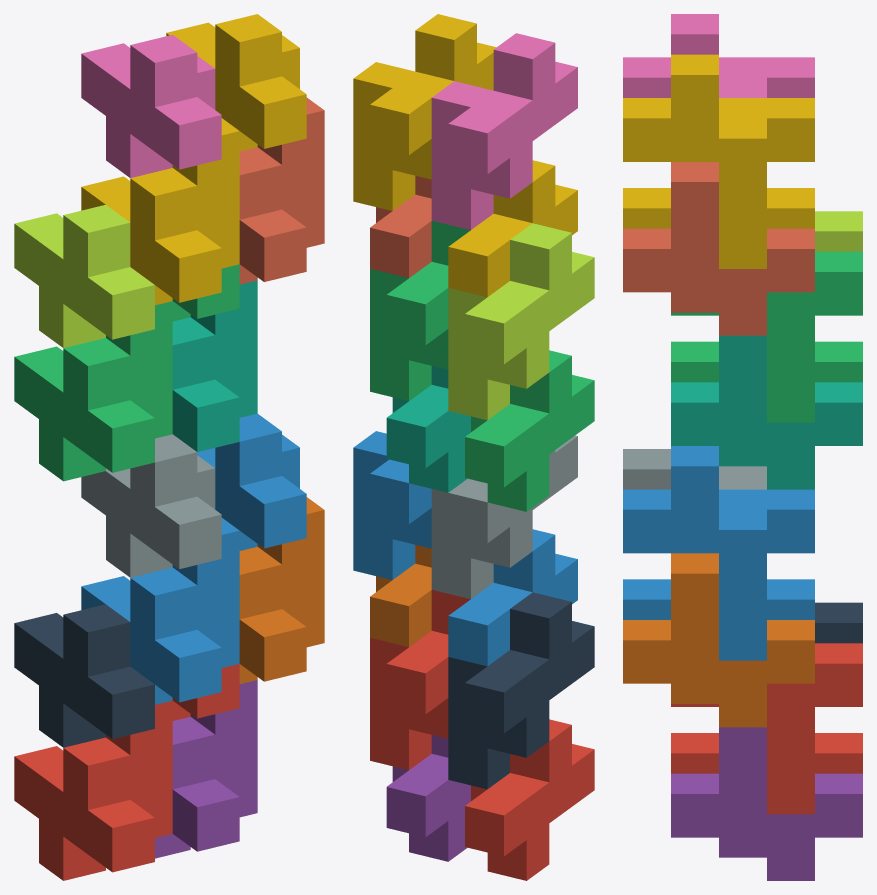
The model's file is tiling.obj.
3 views of the same model, side by side, from view 1: azimuth 30°, elevation 25°; view 2: azimuth 150°, elevation 25°; view 3: azimuth 270°, elevation 25° (orthographic). The views are drawn at different scales.
Visible parts, largest first — view 1: copy_1_domain_3, copy_1_domain_1, copy_1_domain_4, copy_1_domain_2, copy_2_domain_4, copy_2_domain_1, copy_2_domain_3, copy_2_domain_2, copy_1_domain_5, copy_1_domain_6, copy_1_domain_8, copy_1_domain_7 (+4 smaller); view 2: copy_2_domain_4, copy_2_domain_3, copy_2_domain_1, copy_2_domain_8, copy_1_domain_1, copy_1_domain_3, copy_2_domain_7, copy_2_domain_5, copy_2_domain_2, copy_2_domain_6, copy_1_domain_2, copy_1_domain_4 (+4 smaller); view 3: copy_2_domain_6, copy_2_domain_8, copy_1_domain_8, copy_1_domain_6, copy_1_domain_5, copy_1_domain_7, copy_2_domain_7, copy_2_domain_5, copy_2_domain_4, copy_1_domain_3, copy_1_domain_1, copy_1_domain_2 (+4 smaller).
Part boxes in pixels (x1,y1,x2,y2): copy_1_domain_3: [14, 301, 172, 481]; copy_1_domain_1: [14, 700, 172, 880]; copy_1_domain_4: [81, 118, 239, 305]; copy_1_domain_2: [81, 518, 239, 704]; copy_2_domain_4: [81, 34, 221, 177]; copy_2_domain_1: [14, 604, 154, 747]; copy_2_domain_3: [14, 204, 154, 347]; copy_2_domain_2: [81, 434, 221, 577]; copy_1_domain_5: [155, 680, 257, 858]; copy_1_domain_6: [239, 497, 324, 683]; copy_1_domain_8: [239, 97, 324, 284]; copy_1_domain_7: [172, 280, 257, 451]; copy_2_domain_4: [431, 33, 577, 229]; copy_2_domain_3: [448, 223, 594, 420]; copy_2_domain_1: [448, 592, 594, 789]; copy_2_domain_8: [353, 14, 496, 210]; copy_1_domain_1: [465, 719, 594, 880]; copy_1_domain_3: [465, 350, 594, 511]; copy_2_domain_7: [370, 221, 470, 400]; copy_2_domain_5: [370, 590, 470, 769]; copy_2_domain_2: [431, 435, 577, 599]; copy_2_domain_6: [353, 431, 431, 579]; copy_1_domain_2: [448, 529, 577, 666]; copy_1_domain_4: [448, 160, 577, 297]; copy_2_domain_6: [623, 446, 814, 660]; copy_2_domain_8: [623, 54, 814, 268]; copy_1_domain_8: [623, 162, 814, 335]; copy_1_domain_6: [623, 553, 814, 727]; copy_1_domain_5: [671, 727, 862, 880]; copy_1_domain_7: [671, 335, 862, 489]; copy_2_domain_7: [671, 251, 862, 422]; copy_2_domain_5: [671, 643, 862, 814]; copy_2_domain_4: [623, 14, 814, 97]; copy_1_domain_3: [671, 341, 862, 382]; copy_1_domain_1: [671, 733, 862, 773]; copy_1_domain_2: [623, 579, 814, 619].
Bounding box in the file's own units: 5 × 19 × 5.
